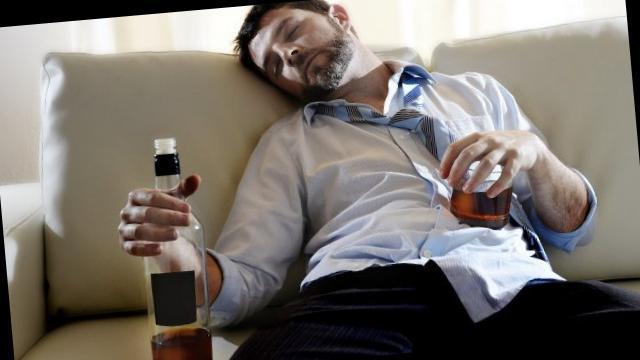Drunk: (254, 13, 343, 87)
